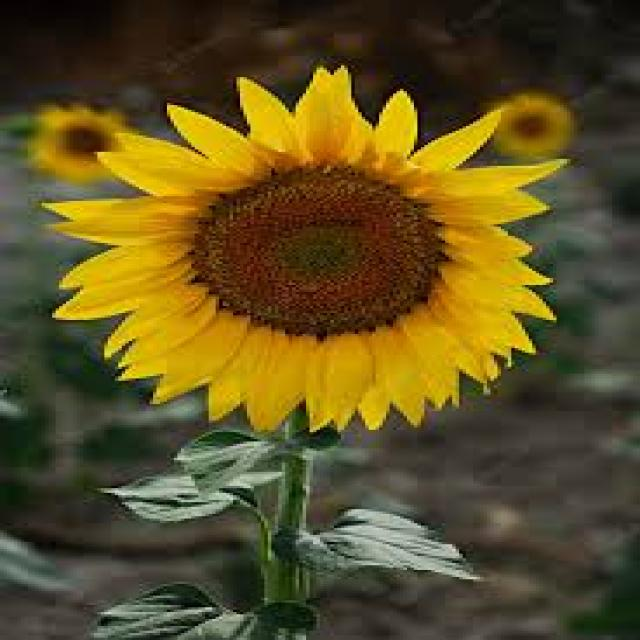sunflower: (39, 55, 564, 442), (30, 103, 130, 182), (487, 89, 580, 165)
